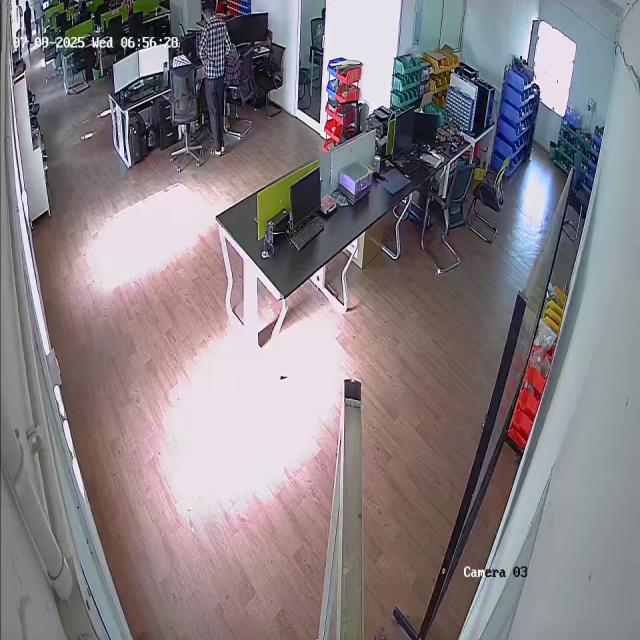person: (195, 1, 231, 163), (12, 0, 23, 37), (23, 0, 32, 44)
